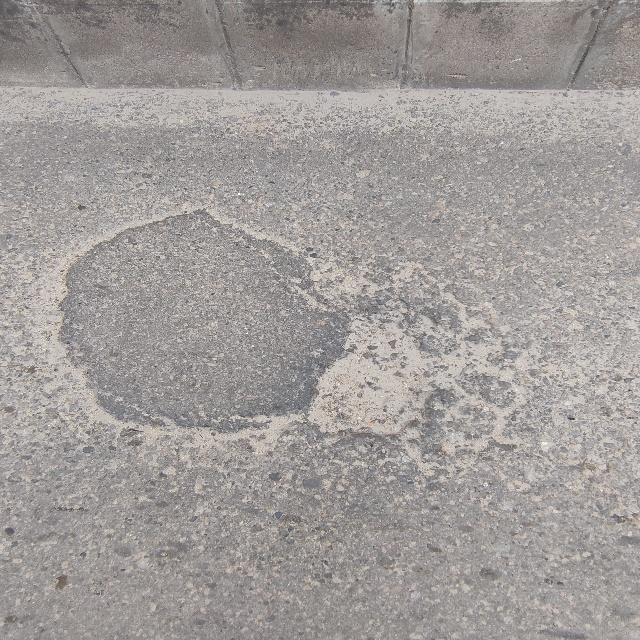Surface Erosion: (189, 199, 640, 528)
